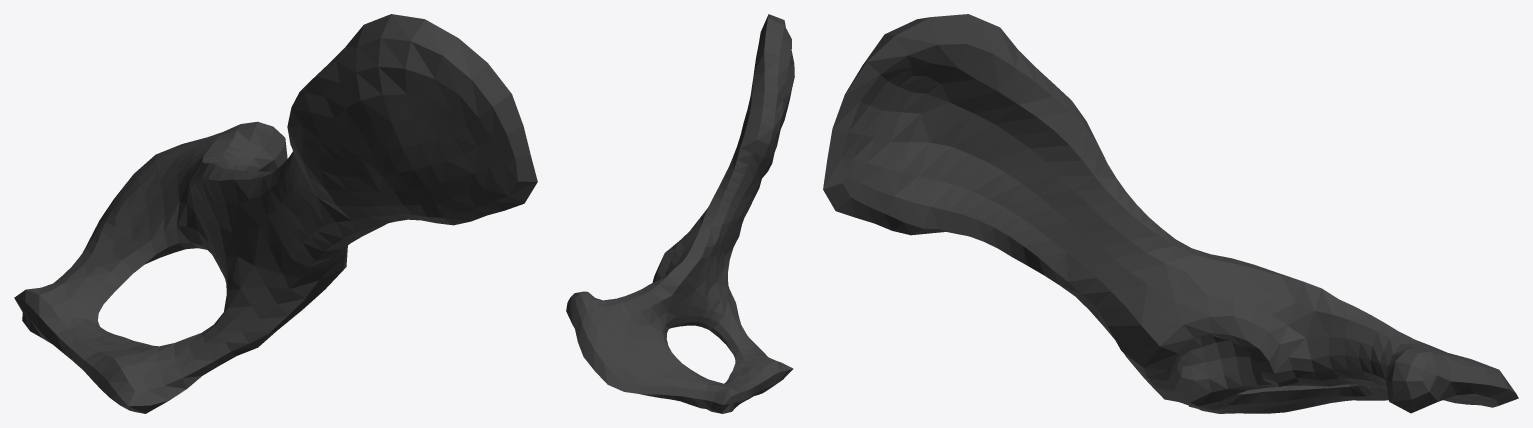
The model's file is Pelvis.glb.
3 renders of one model, left to right at view 1: azimuth 30°, elevation 25°; view 2: azimuth 150°, elevation 25°; view 3: azimuth 270°, elevation 25°, orthographic. The views are drawn at different scales.
Parts seen in each view (by area): view 1: Pelvis; view 2: Pelvis; view 3: Pelvis.
Part boxes in pixels (box(x1,y1,x2,y2)): Pelvis: box(14, 14, 537, 413); Pelvis: box(566, 14, 794, 413); Pelvis: box(823, 14, 1518, 413).
Bounding box in the file's own units: 0.0174 × 0.0291 × 0.0389.
1 material, 1 textured.
